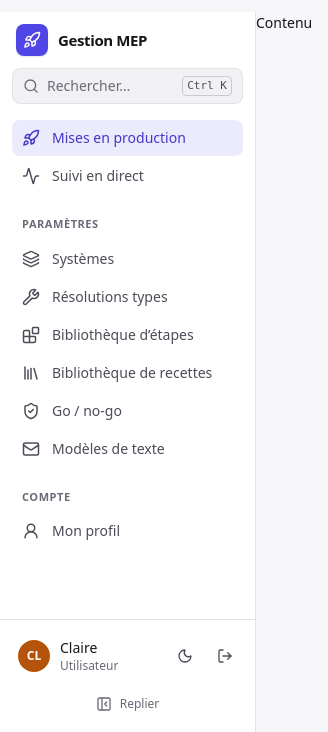
Test case: Menu : version et signalement › affiche la version et le lien de signalement dans le menu utilisateur
This screenshot has width=328, height=732.
Click the button with aria-label "Menu utilisateur": (88, 656) [12,632,163,680]
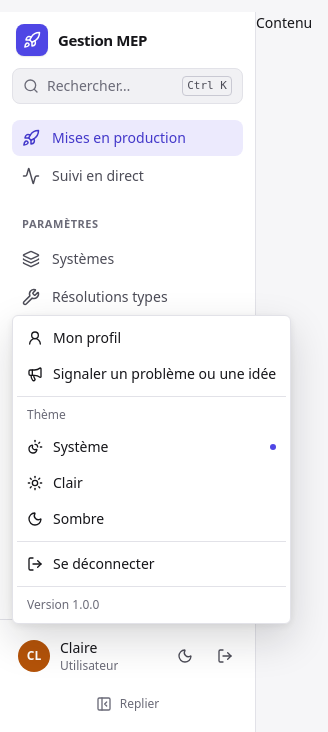
Expected: the text "Version 1.0.0" is shown, [27,596,99,613]
Expected: the menu item "Signaler un problème ou une idée" is shown, [27,364,276,383]
